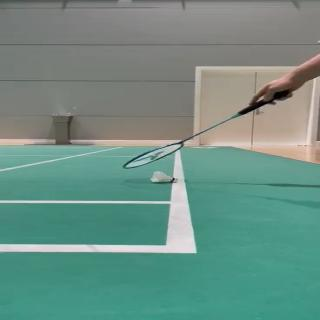Shuttle: (151, 171, 178, 183)
